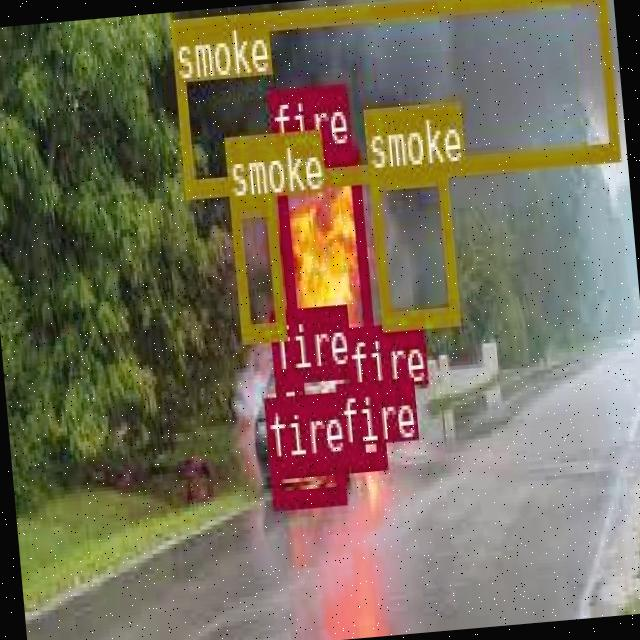fire: (272, 146, 374, 378), (268, 454, 344, 504), (348, 384, 386, 466), (272, 369, 304, 412), (339, 444, 359, 469)
smoke: (169, 0, 616, 194), (368, 165, 457, 326), (228, 195, 284, 338)
